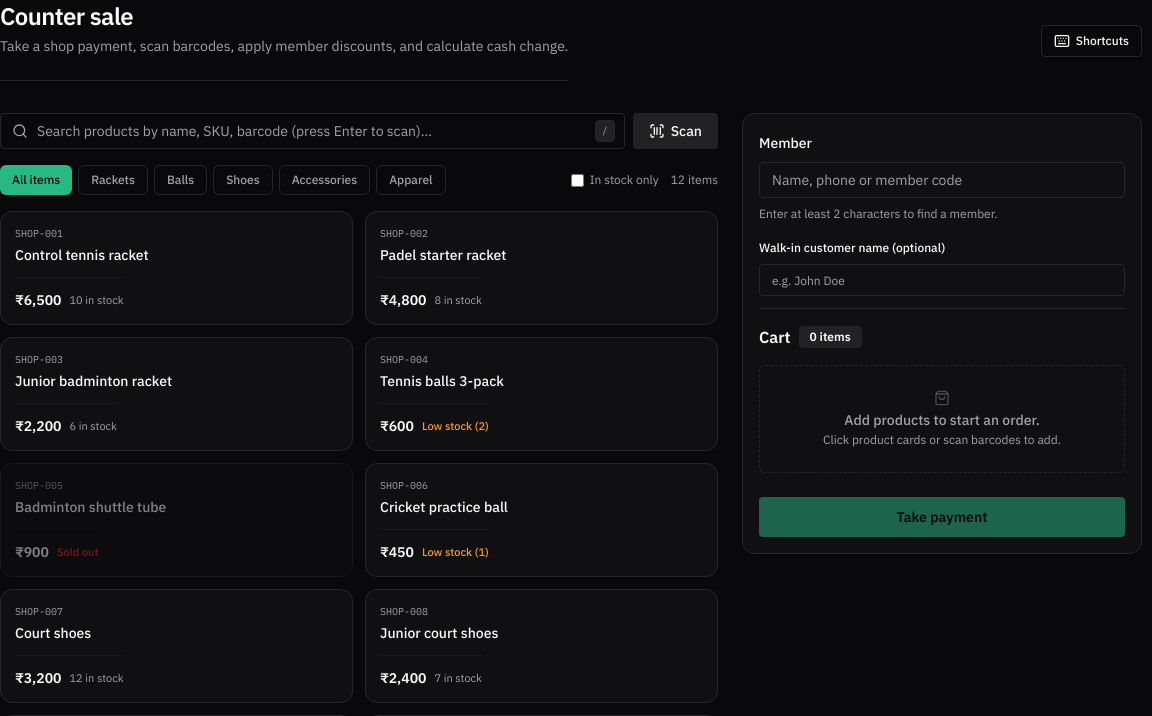
Scenario: Counter sale POS (Issue #71) › calculates cash change when cash tendered is entered
This screenshot has width=1152, height=716.
Click the button "SHOP-001 Control tennis racket ₹6,500 10 in stock" at [39, 234], box x1=0 y1=211 x2=353 y2=325
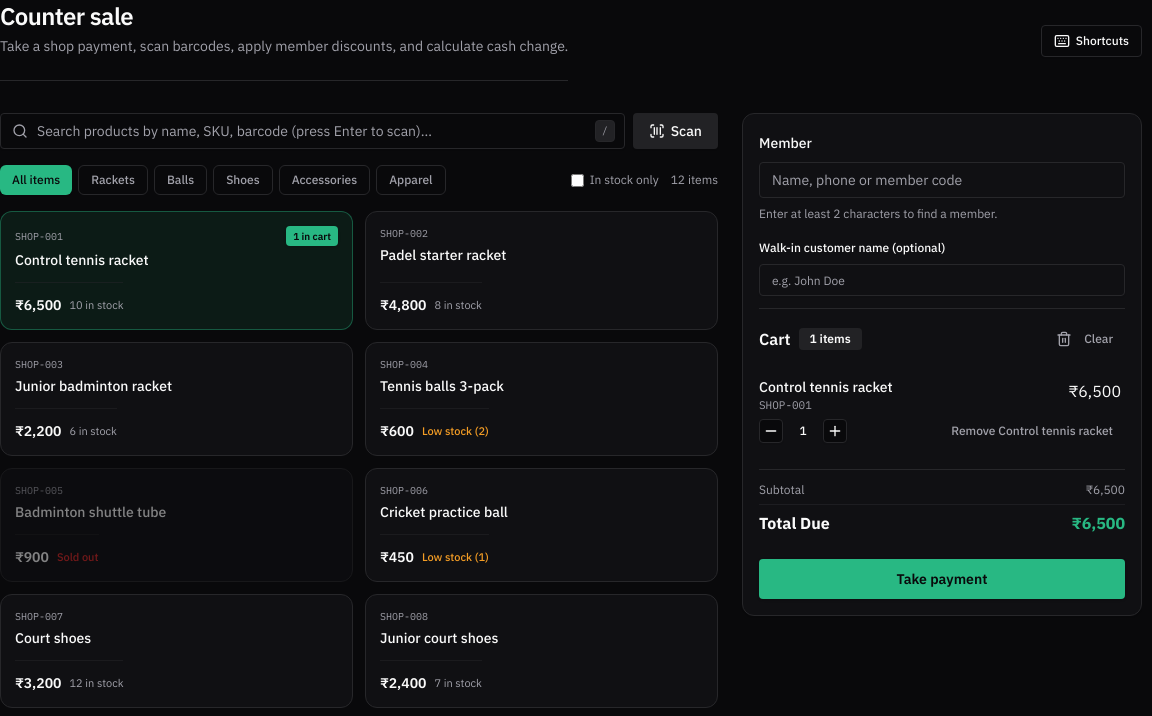
Click the button "Take payment" at [942, 579], box x1=759 y1=559 x2=1125 y2=599
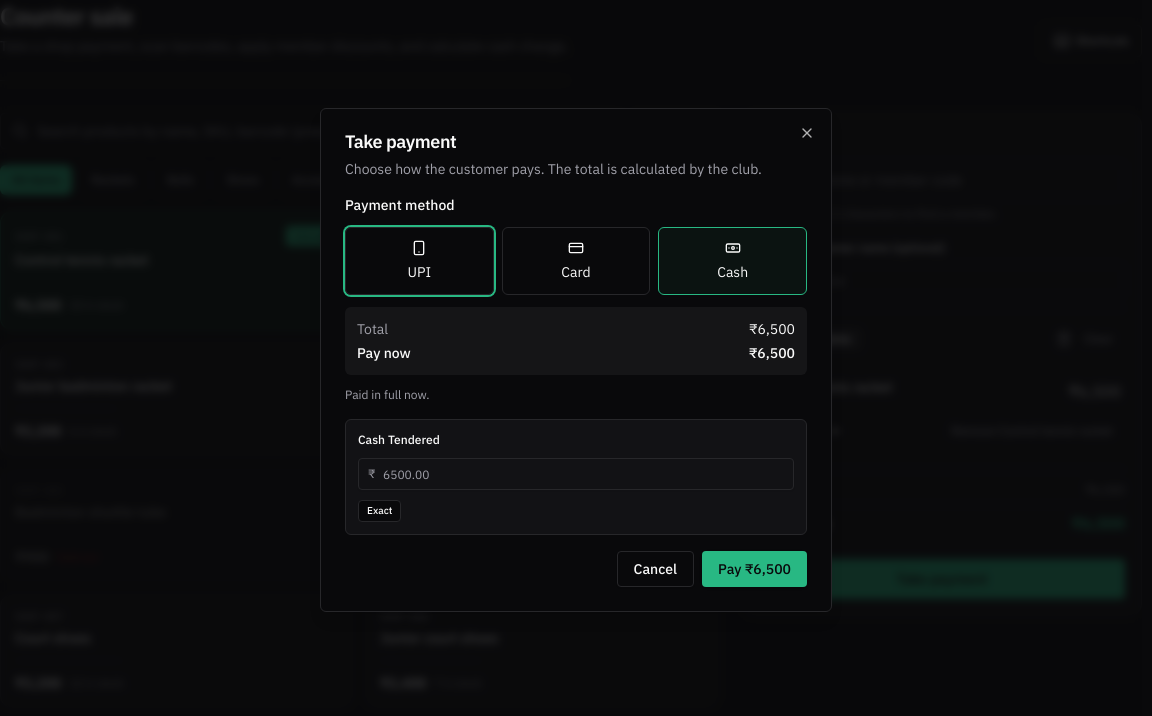
Expected: the text "Cash Tendered" is shown, x1=358 y1=432 x2=440 y2=448
Type "7000" into the number field with placeholder "6500.00" at [576, 474], box x1=358 y1=458 x2=794 y2=490
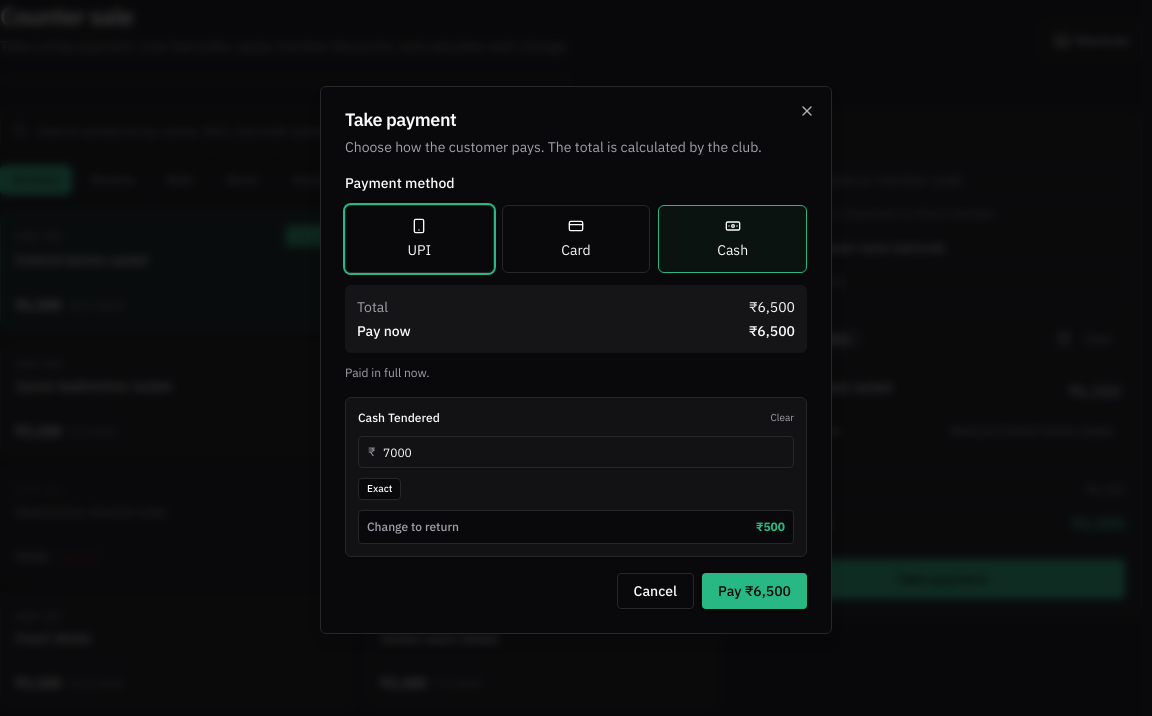
Expected: the text "Change to return" is shown, x1=367 y1=519 x2=459 y2=535
Expected: the text "₹500" is shown, x1=756 y1=519 x2=785 y2=534
